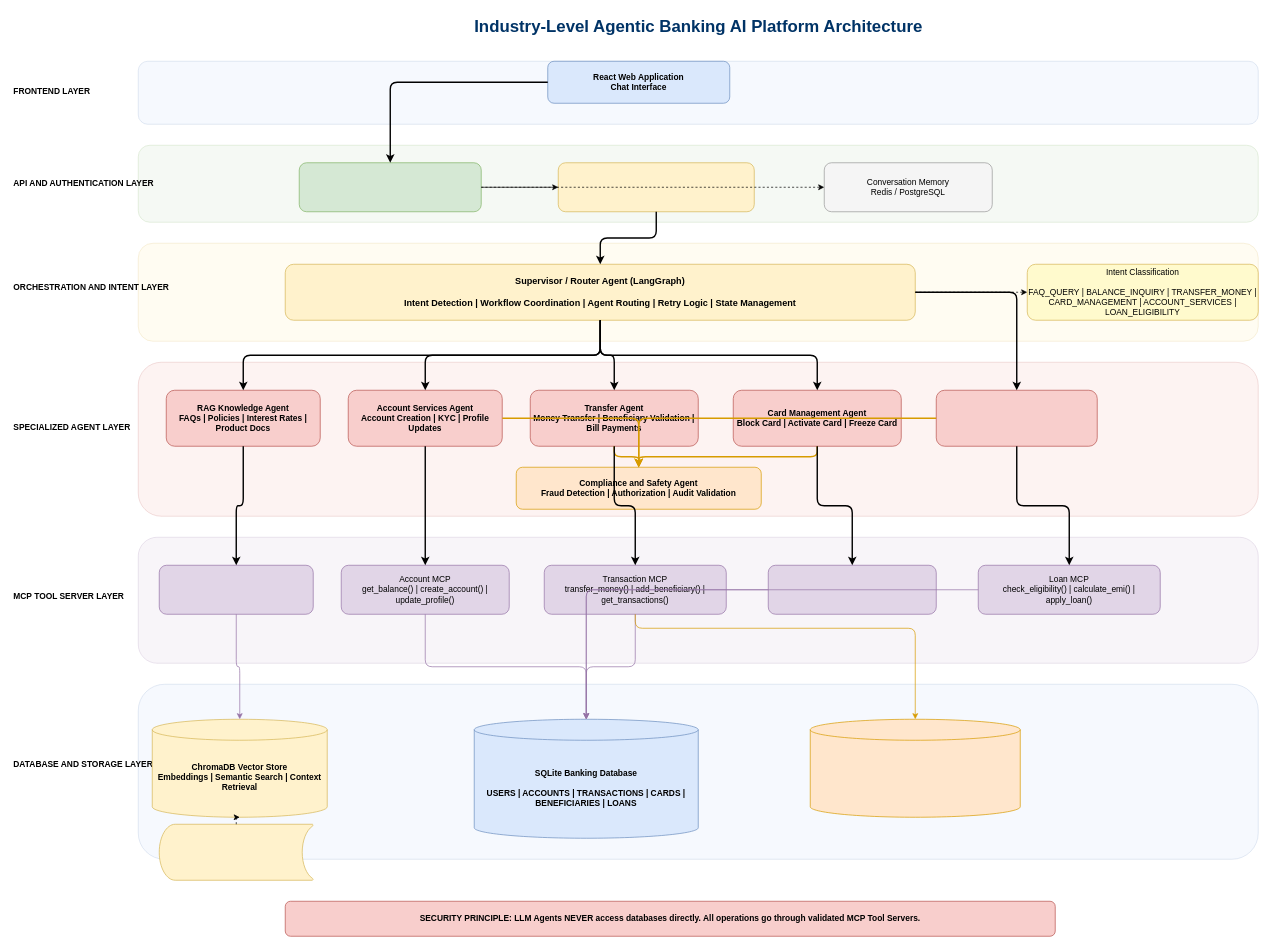
Some shapes in this 1271 by 949 pixel diagram are drawn without their labels. The centre of each missing label's shape, as x and y in pixels:
Audit Logs Database user_id | action | timestamp | ip_address: point 915,768
Card MCP block_card() | activate_card() | freeze_card(): point 852,589
FastAPI Backend REST APIs | Async Workflows | Session Handling: point 390,187
JWT Authentication Token Validation | RBAC | Session Verification: point 656,187
Knowledge Documents FAQ JSON | Policies | Interest Rates | KYC Guidelines: point 236,852
Loan Agent Loan Eligibility | EMI Calculation | Applications: point 1016,418
RAG MCP Embedding Retrieval | Context Search: point 236,589
